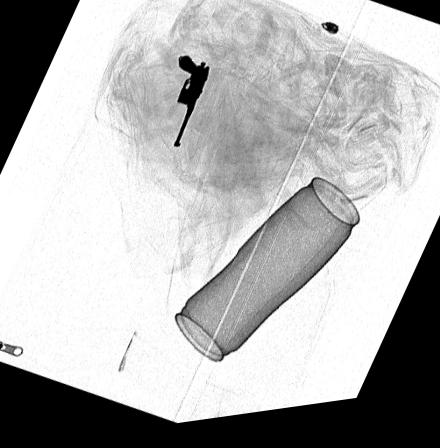Gun: (170, 57, 211, 153)
